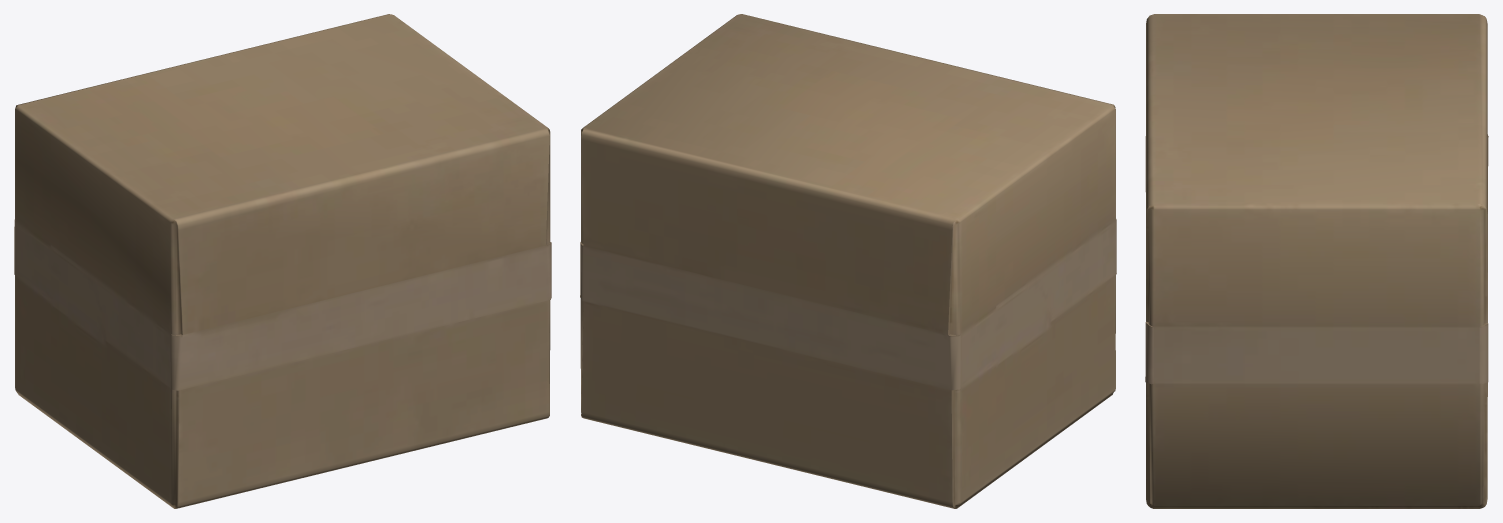
The model's file is carton_a.glb.
3 renders of one model, left to right at view 1: azimuth 30°, elevation 25°; view 2: azimuth 150°, elevation 25°; view 3: azimuth 270°, elevation 25°, orthographic. The views are drawn at different scales.
Parts seen in each view (by area): view 1: body; view 2: body; view 3: body.
Boxes of the visible parts, x1,y1,x2,y2 form: body: (14,14,551,508); body: (580,14,1116,508); body: (1145,14,1488,508).
Size of the model in its own units: 0.6993 by 0.5095 by 0.5211.
1 material, 1 textured.
